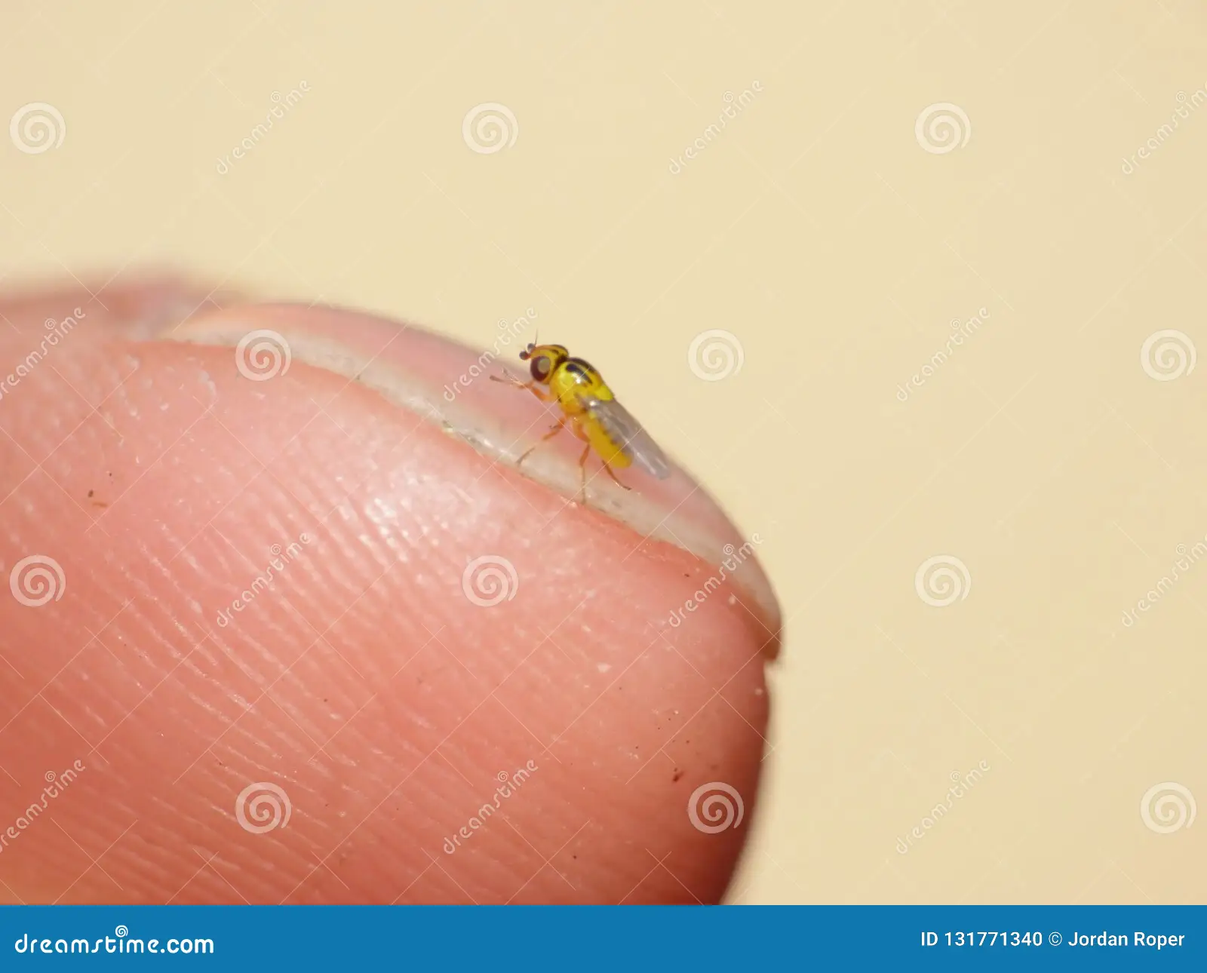Chloropidae: (469, 334, 683, 498)
